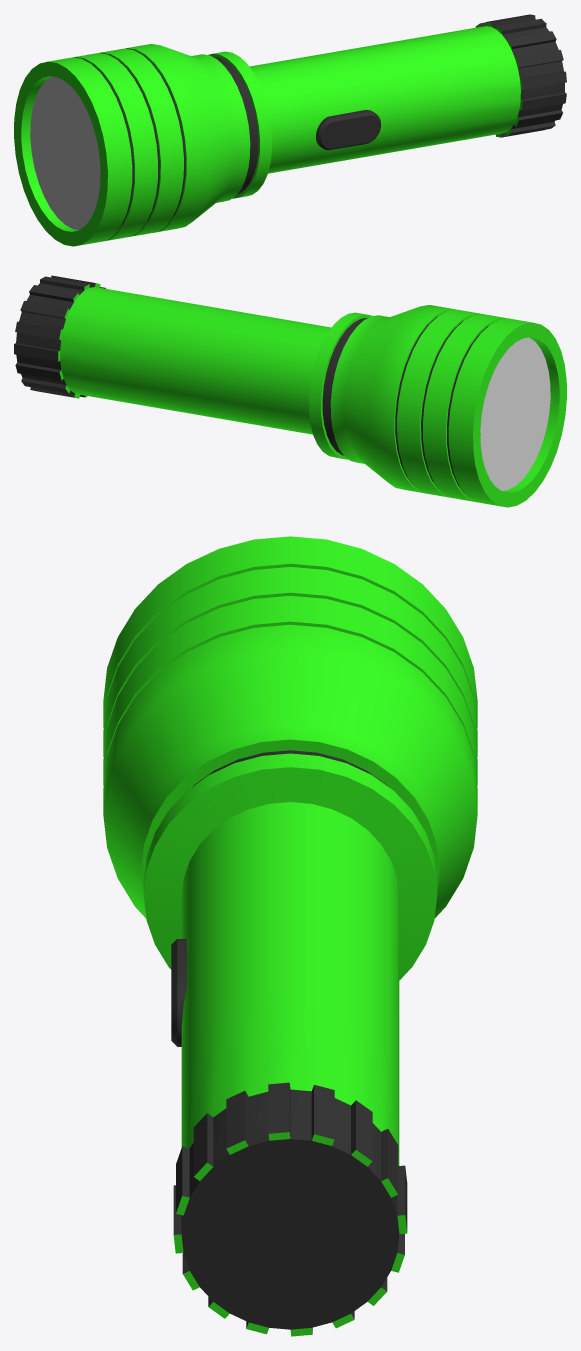
The model's file is Linterna.fbx.
The picture shows the model from 3 angles, top to bottom: view 1: azimuth 30°, elevation 25°; view 2: azimuth 150°, elevation 25°; view 3: azimuth 270°, elevation 25°; orthographic projection. The views are drawn at different scales.
Parts seen in each view (by area): view 1: Cylinder; view 2: Cylinder; view 3: Cylinder.
Boxes of the visible parts, bbox=[...] form: Cylinder: bbox=[14, 14, 566, 246]; Cylinder: bbox=[14, 275, 566, 507]; Cylinder: bbox=[103, 536, 477, 1336].
Bounding box in the file's own units: 35.51 × 12.34 × 11.84.
